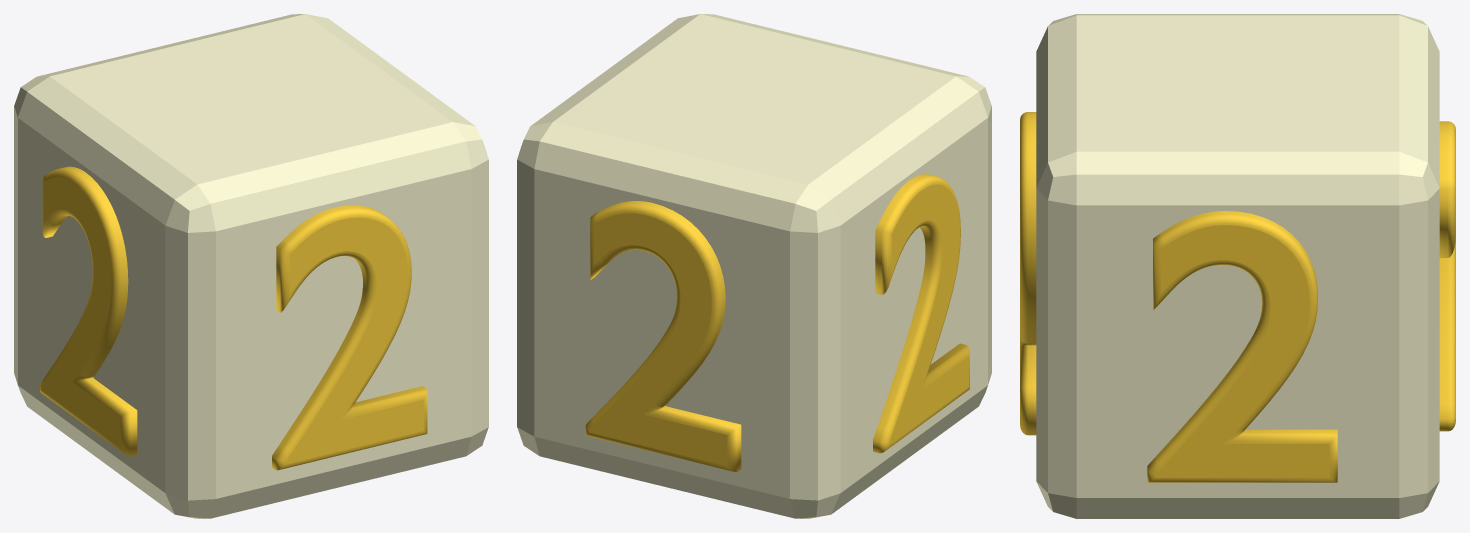
The picture shows the model from 3 angles, left to right: view 1: azimuth 30°, elevation 25°; view 2: azimuth 150°, elevation 25°; view 3: azimuth 270°, elevation 25°; orthographic projection. The views are drawn at different scales.
Visible parts, largest first — view 1: 2; view 2: 2; view 3: 2.
Part boxes in pixels (bbox=[...]): 2: bbox=[14, 14, 488, 518]; 2: bbox=[517, 14, 991, 518]; 2: bbox=[1020, 14, 1455, 518].
Size of the model in its own units: 216 by 200 by 216.
